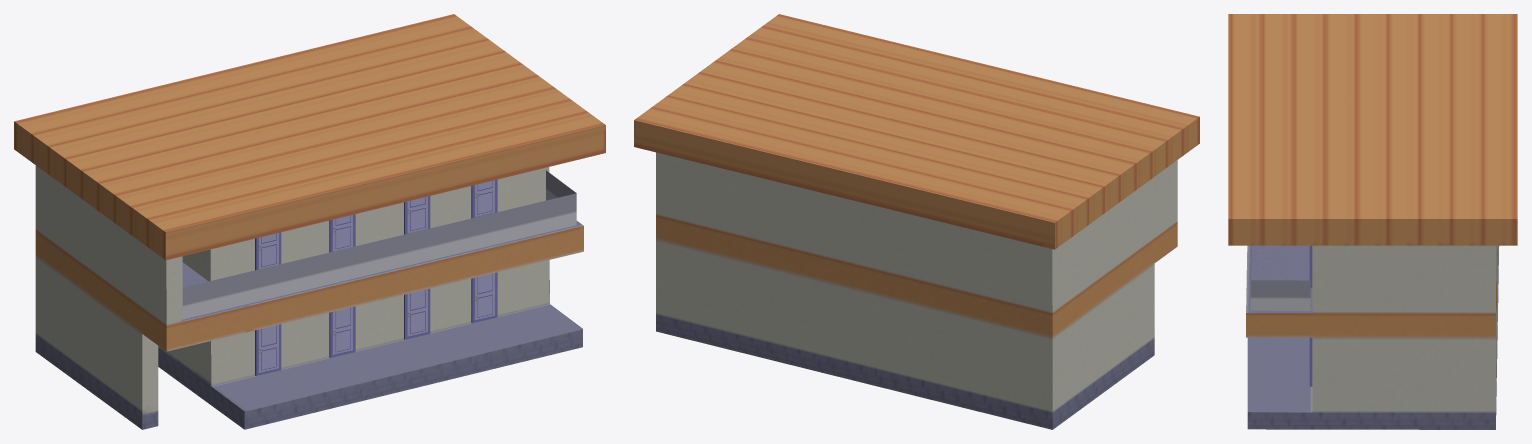
File: apart.fbx
3 views of the same model, side by side, from view 1: azimuth 30°, elevation 25°; view 2: azimuth 150°, elevation 25°; view 3: azimuth 270°, elevation 25° (orthographic). The views are drawn at different scales.
Visible parts, largest first — view 1: polySurface9, polySurface8, door5, door8, door7, door6, door4, door3, door2, door1; view 2: polySurface9; view 3: polySurface9, polySurface8.
Part boxes in pixels (x1,y1,x2,y2): polySurface9: (14,14,605,429); polySurface8: (182,170,576,319); door5: (255,324,281,375); door8: (329,306,355,357); door7: (404,288,430,339); door6: (471,272,497,323); door4: (471,179,497,218); door3: (404,196,430,234); door2: (329,214,355,252); door1: (255,232,281,270); polySurface9: (634,14,1199,429); polySurface9: (1228,14,1517,429); polySurface8: (1250,246,1310,310).
Size of the model in its own units: 17.76 by 8.78 by 10.6.
2 materials, 2 textured.
